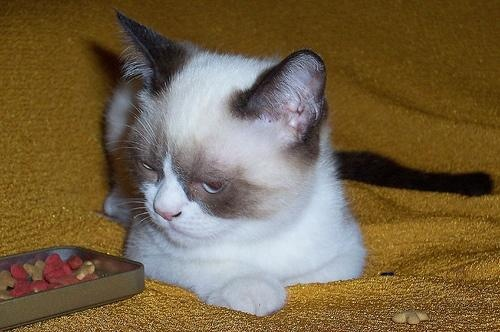cat: (105, 8, 367, 316)
